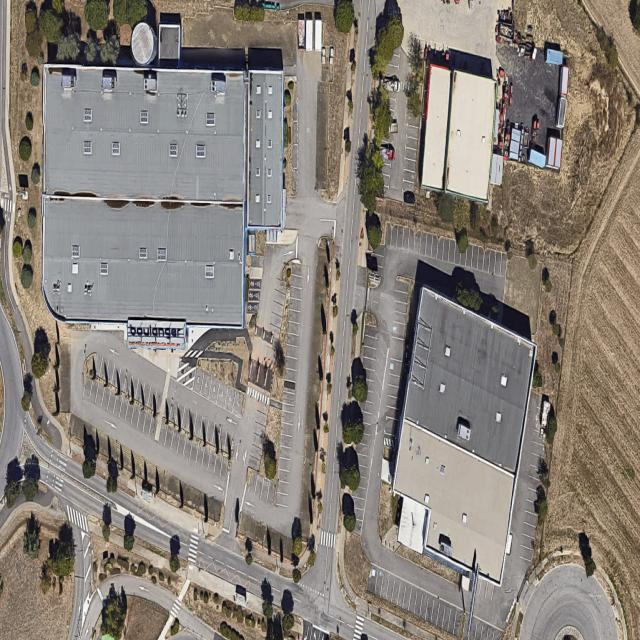immeuble: (41, 52, 284, 340), (378, 286, 543, 582), (420, 63, 498, 203)
